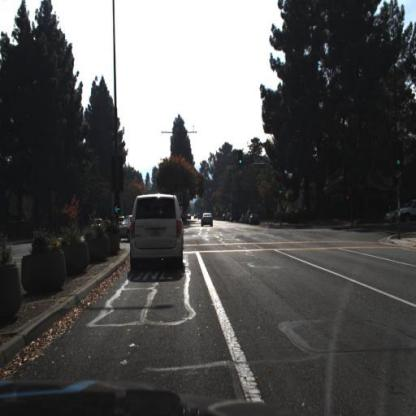car: (129, 190, 185, 274), (115, 212, 136, 246), (396, 196, 416, 225), (200, 211, 216, 230), (384, 205, 398, 226), (202, 210, 215, 231)
trafficLight-Green: (395, 143, 403, 171), (237, 152, 246, 173), (238, 150, 243, 167), (279, 184, 284, 198)
trafficLight-GreenLeft: (115, 193, 124, 218)
